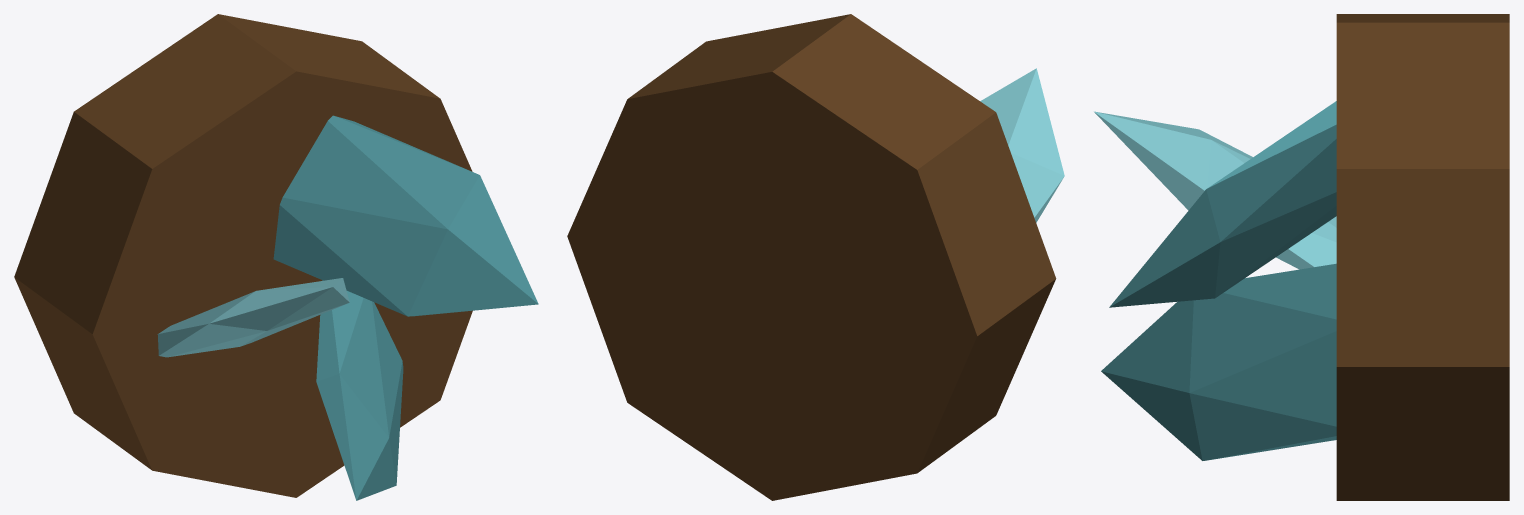
Rendered from 1_seedling.obj.
The picture shows the model from 3 angles, left to right: view 1: azimuth 30°, elevation 25°; view 2: azimuth 150°, elevation 25°; view 3: azimuth 270°, elevation 25°; orthographic projection. The views are drawn at different scales.
Visible parts, largest first — view 1: ranarr_1_seedling; view 2: ranarr_1_seedling; view 3: ranarr_1_seedling.
Part boxes in pixels (x1,y1,x2,y2): ranarr_1_seedling: (14,14,538,500); ranarr_1_seedling: (567,14,1064,500); ranarr_1_seedling: (1094,14,1509,500).
Bounding box in the file's own units: 0.12 × 0.12 × 0.0963.
